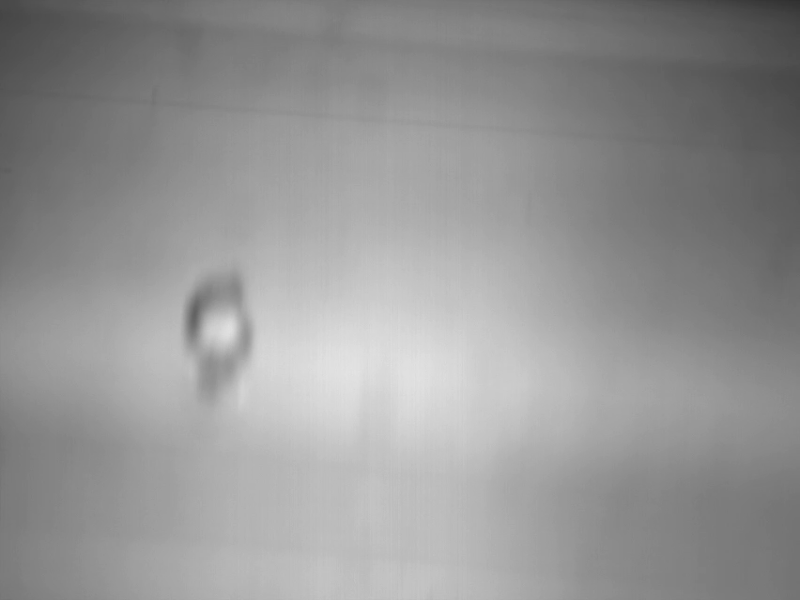bead: (178, 267, 258, 385)
